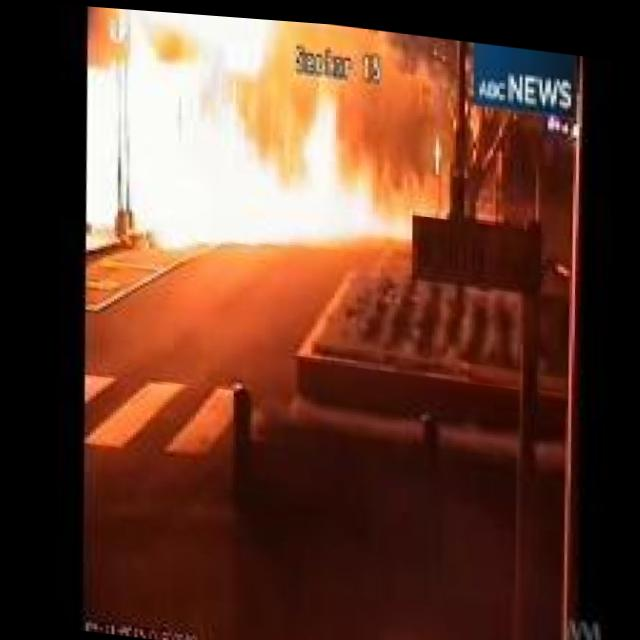fire: (79, 5, 420, 274)
